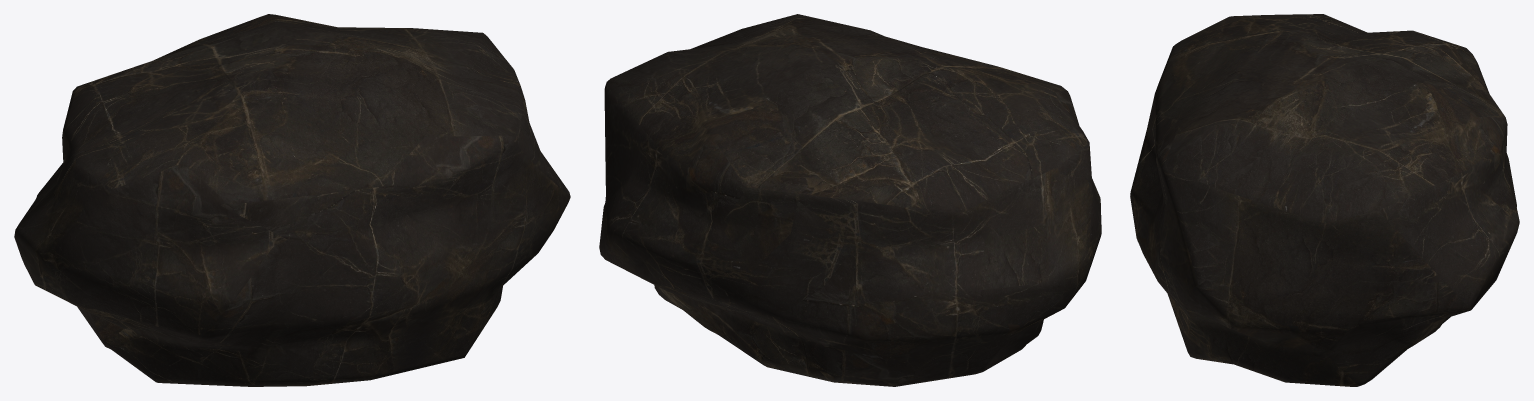
The model's file is ravine_boulder_a.glb.
3 views of the same model, side by side, from view 1: azimuth 30°, elevation 25°; view 2: azimuth 150°, elevation 25°; view 3: azimuth 270°, elevation 25° (orthographic). The views are drawn at different scales.
Visible parts, largest first — view 1: ravine_boulder_a; view 2: ravine_boulder_a; view 3: ravine_boulder_a.
Boxes of the visible parts, <box> form: ravine_boulder_a: <box>14,14,570,386</box>; ravine_boulder_a: <box>599,14,1101,386</box>; ravine_boulder_a: <box>1130,14,1519,386</box>.
Size of the model in its own units: 2.35 by 1.35 by 1.81.
Materials: 1 (1 with a texture image).
